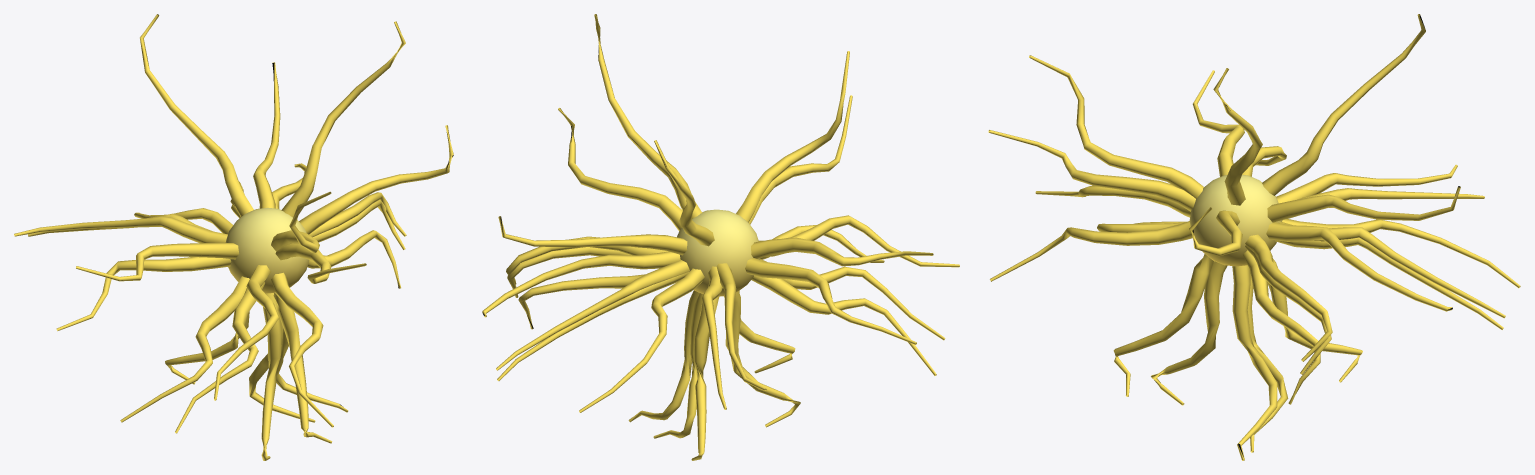
Rendered from sparkler.fbx.
3 renders of one model, left to right at view 1: azimuth 30°, elevation 25°; view 2: azimuth 150°, elevation 25°; view 3: azimuth 270°, elevation 25°, orthographic. The views are drawn at different scales.
Parts seen in each view (by area): view 1: sparkler; view 2: sparkler; view 3: sparkler.
Part boxes in pixels (x1=…): sparkler: x1=14, y1=14, x2=453, y2=460; sparkler: x1=482, y1=14, x2=959, y2=460; sparkler: x1=988, y1=14, x2=1520, y2=460.
Bounding box in the file's own units: 0.0695 × 0.0699 × 0.08.
Materials: 1 (1 with a texture image).
